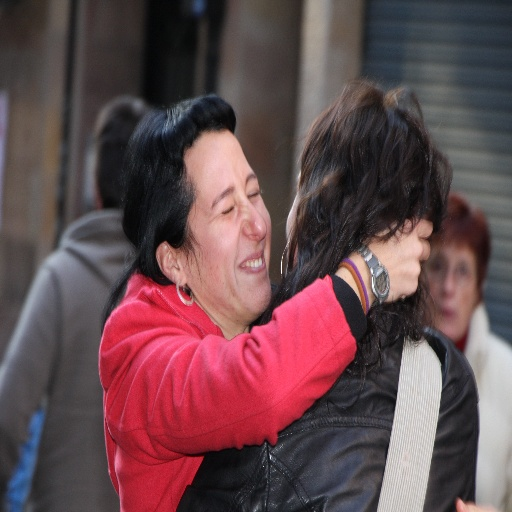hand: (354, 213, 431, 303), (455, 496, 496, 511)
